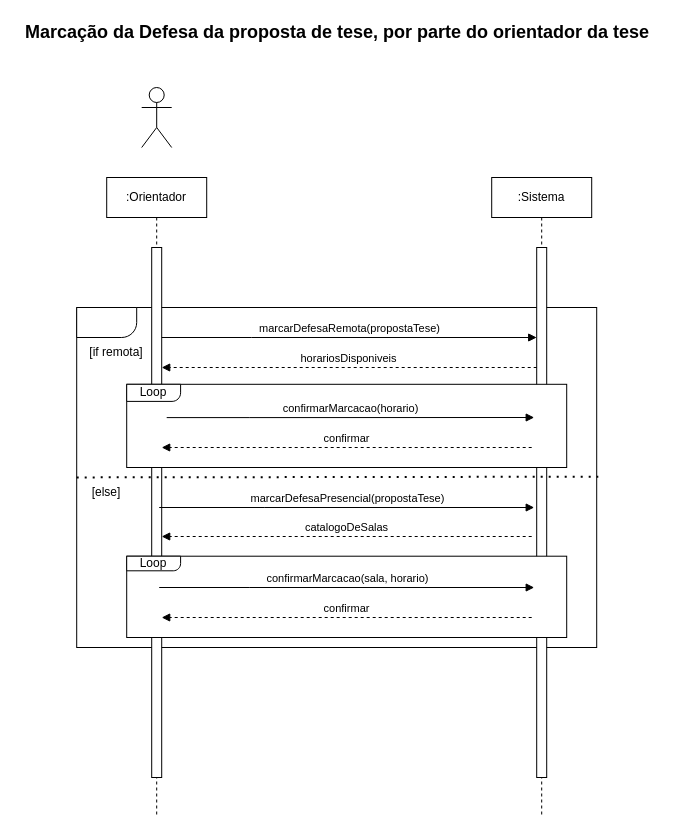
Some shapes in this 674 by 835 pixel diagram are drawn without their labels. The shapes that lost their labels are listed below. From the top down, each one's centre as x and y in pixels, then its label:
point 156,117: Orientador
point 106,322: Alt
